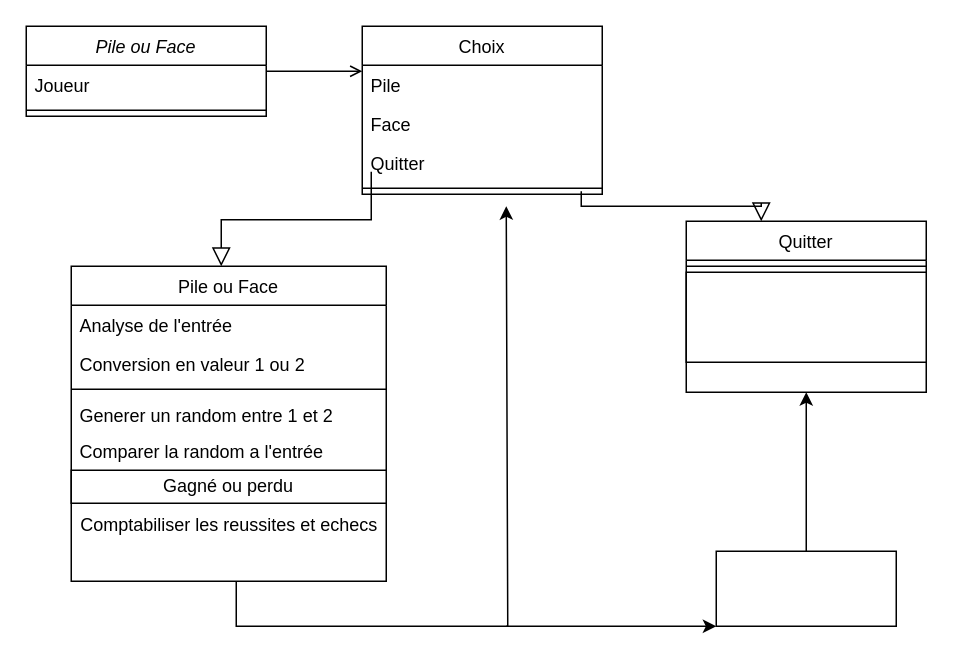
Some shapes in this 953 by 665 pixel diagram are drawn without their labels. The shapes that lost their labels are listed below. From the top down, each one's centre as x and y in pixels, then its label:
At point (805, 316): "Fermeture du programme".
At point (805, 588): "Si 10 echecs".
